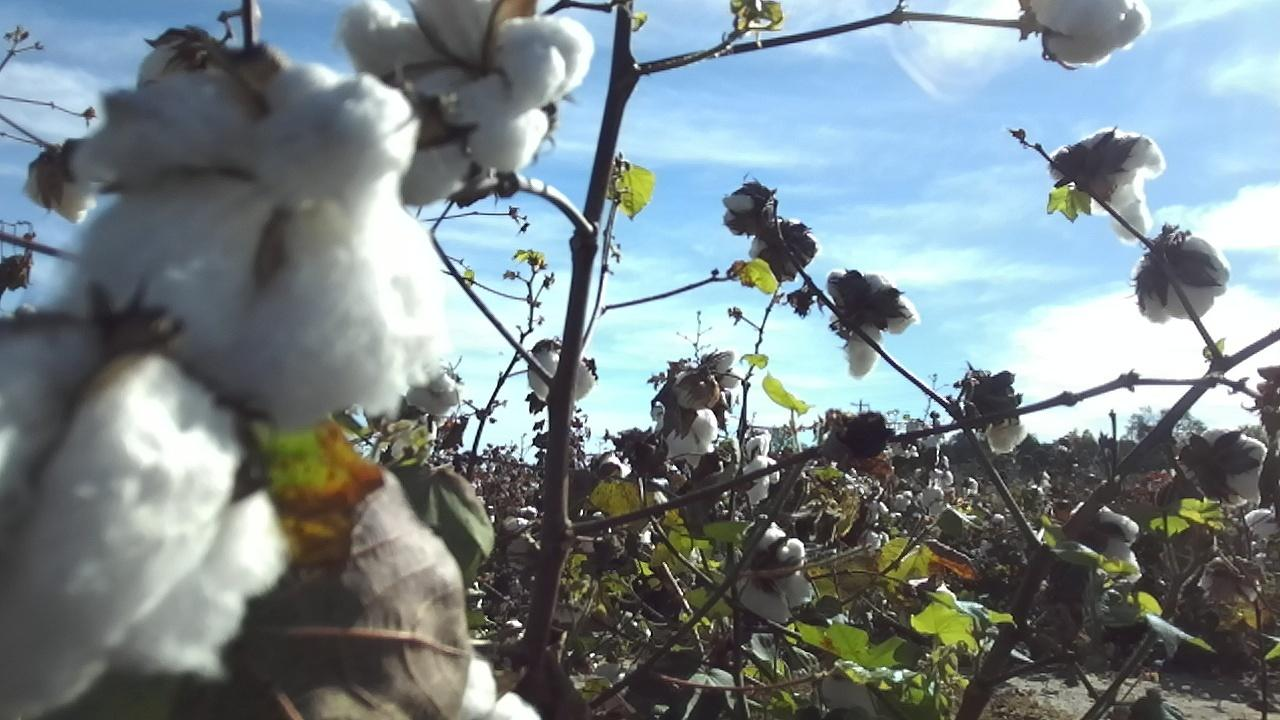cotton_ready: (72, 40, 456, 421), (0, 320, 290, 720), (335, 0, 594, 207), (1050, 129, 1166, 244), (826, 268, 917, 381), (1129, 235, 1228, 324), (1023, 0, 1148, 70), (739, 518, 813, 623), (1068, 500, 1143, 583), (1191, 426, 1268, 503), (460, 658, 546, 720), (748, 218, 819, 282), (525, 345, 596, 402), (972, 388, 1030, 452), (658, 406, 716, 466), (741, 430, 782, 508), (721, 185, 777, 238), (672, 365, 722, 409), (696, 349, 743, 390), (1244, 508, 1280, 538)
